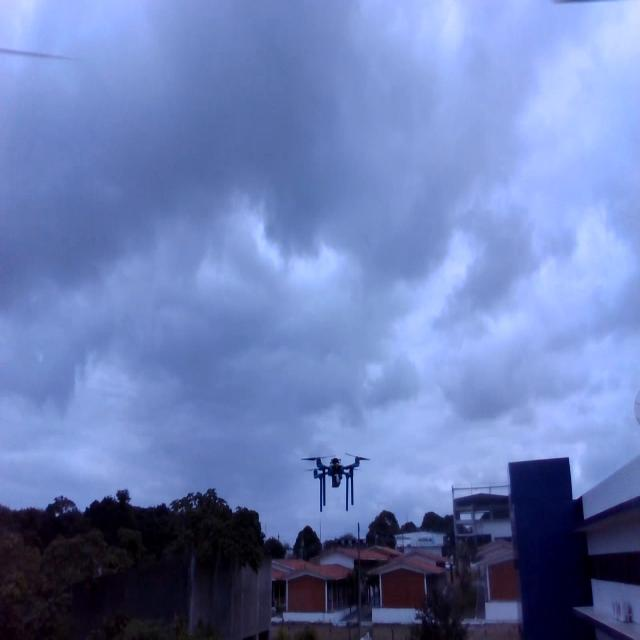-uav-: (292, 432, 372, 522)
